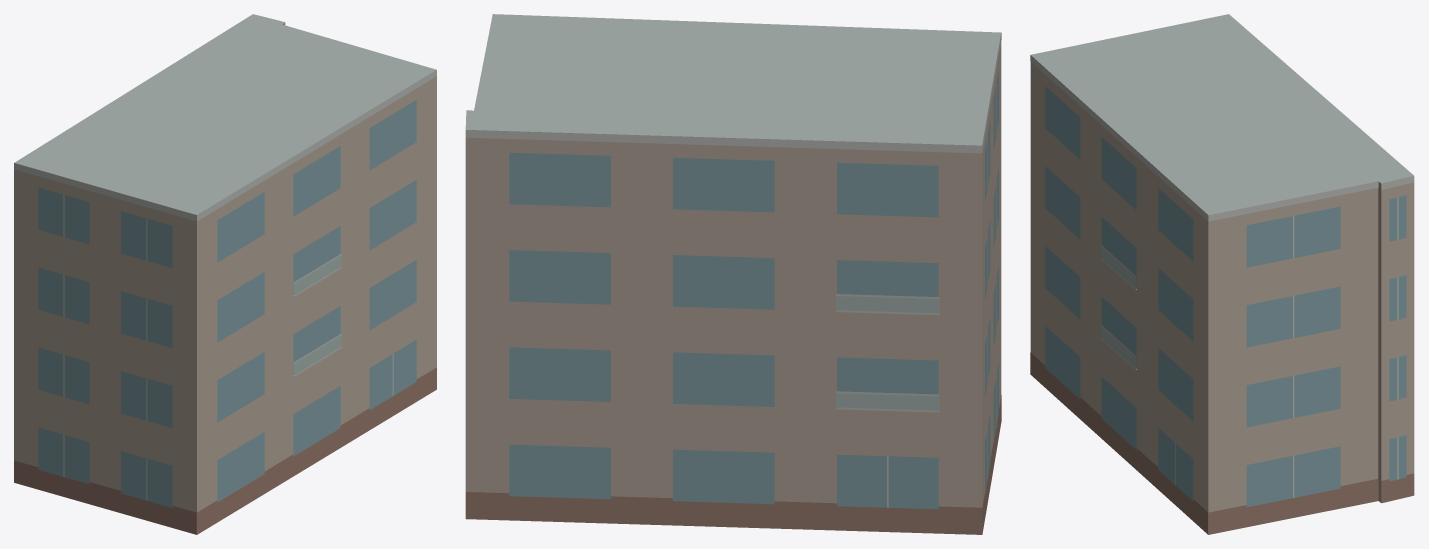
Rendered from survey-upis-32701588.glb.
3 views of the same model, side by side, from view 1: azimuth 30°, elevation 25°; view 2: azimuth 150°, elevation 25°; view 3: azimuth 270°, elevation 25° (orthographic). The views are drawn at different scales.
Parts seen in each view (by area): view 1: survey-upis-32701588.tmp; view 2: survey-upis-32701588.tmp; view 3: survey-upis-32701588.tmp.
Boxes of the visible parts, <box> form: survey-upis-32701588.tmp: <box>14,14,436,534</box>; survey-upis-32701588.tmp: <box>465,14,1001,534</box>; survey-upis-32701588.tmp: <box>1030,14,1414,534</box>.
Bounding box in the file's own units: 16.34 × 12.1 × 13.18.
